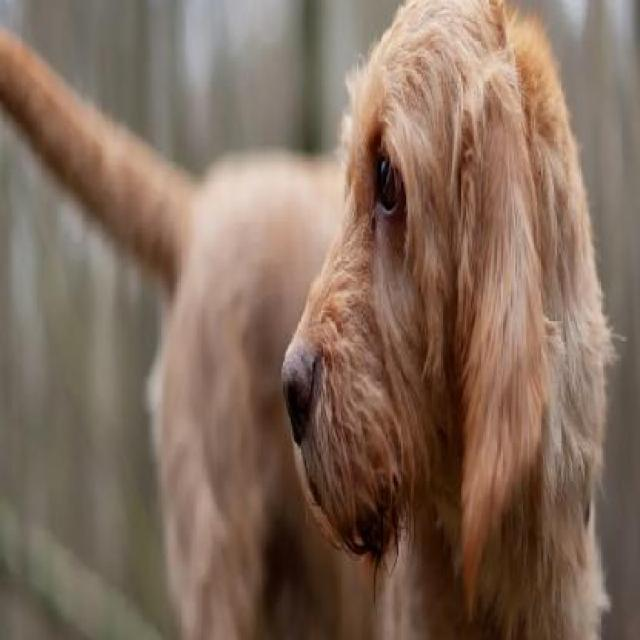animals: (272, 4, 594, 619)
